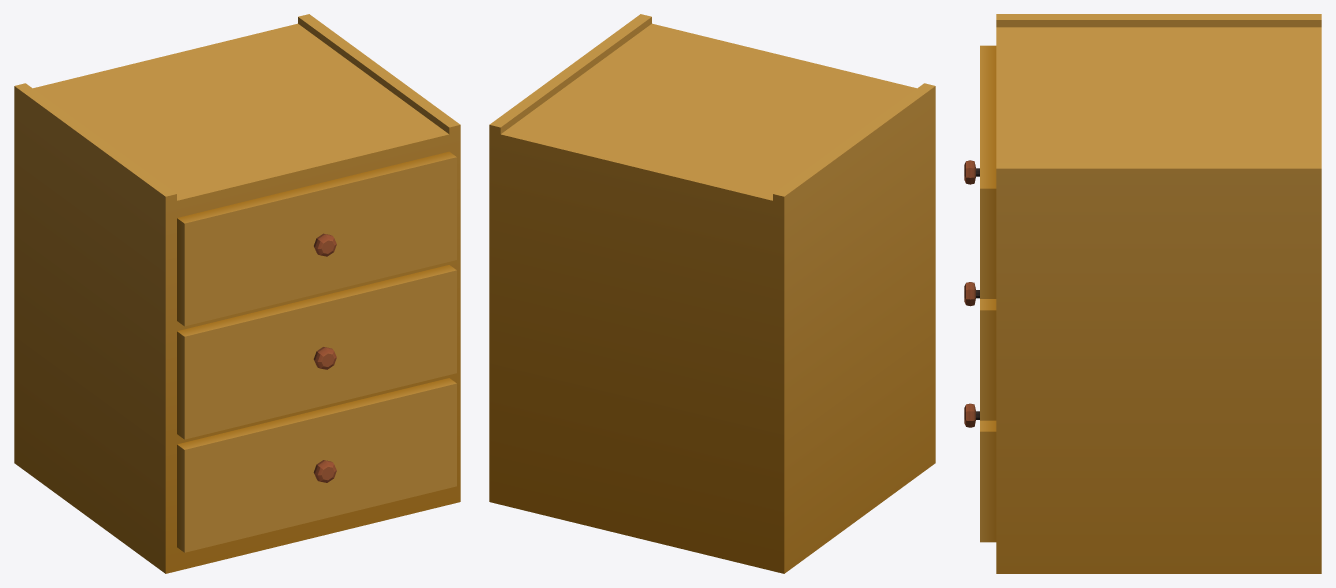
File: nightstand.glb
3 renders of one model, left to right at view 1: azimuth 30°, elevation 25°; view 2: azimuth 150°, elevation 25°; view 3: azimuth 270°, elevation 25°, orthographic. The views are drawn at different scales.
Visible parts, largest first — view 1: Nightstand; view 2: Nightstand; view 3: Nightstand.
Boxes of the visible parts, left/top/right/bottom form: Nightstand: left=14, top=14, right=460, bottom=573; Nightstand: left=489, top=14, right=935, bottom=573; Nightstand: left=964, top=14, right=1321, bottom=573.
Bounding box in the file's own units: 0.45 × 0.55 × 0.4394.
1 material, 1 textured.
